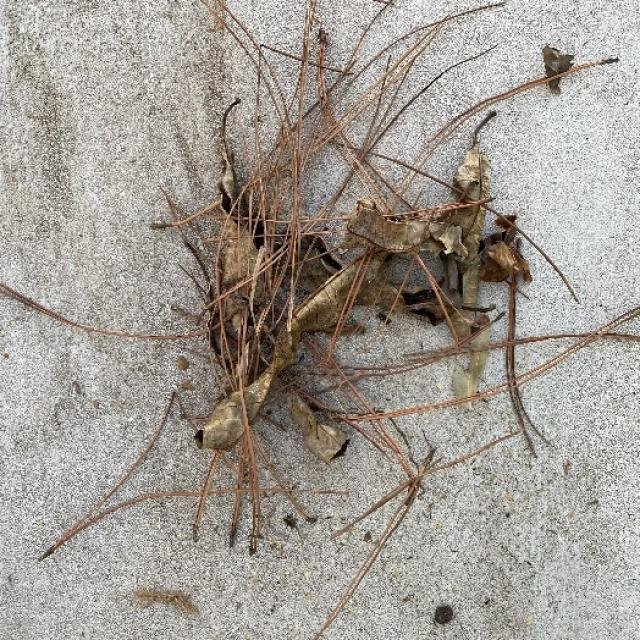organik: (192, 57, 514, 517)
